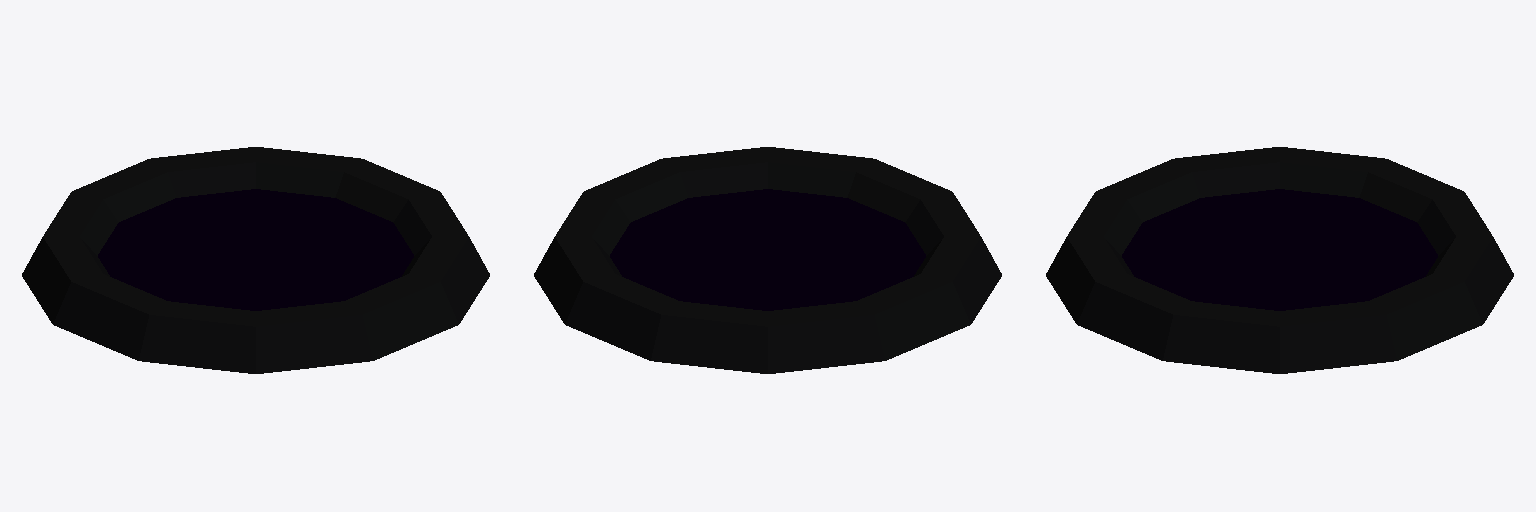
The model's file is worldnode.obj.
3 renders of one model, left to right at view 1: azimuth 30°, elevation 25°; view 2: azimuth 150°, elevation 25°; view 3: azimuth 270°, elevation 25°, orthographic.
Parts seen in each view (by area): view 1: export_Cylinder.002; view 2: export_Cylinder.002; view 3: export_Cylinder.002.
Boxes of the visible parts, x1,y1,x2,y2 form: export_Cylinder.002: [22, 147, 489, 373]; export_Cylinder.002: [534, 147, 1001, 373]; export_Cylinder.002: [1046, 147, 1513, 373].
Size of the model in its own units: 1.1 by 0.1 by 1.1.